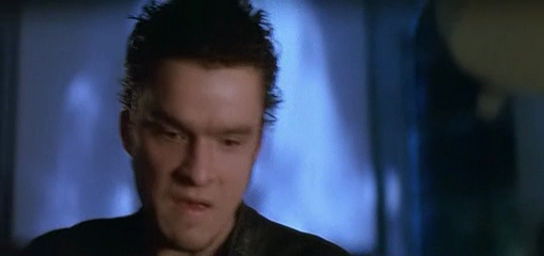cu: (1, 1, 544, 256)
face: (136, 65, 260, 252)
person: (18, 1, 354, 256)
